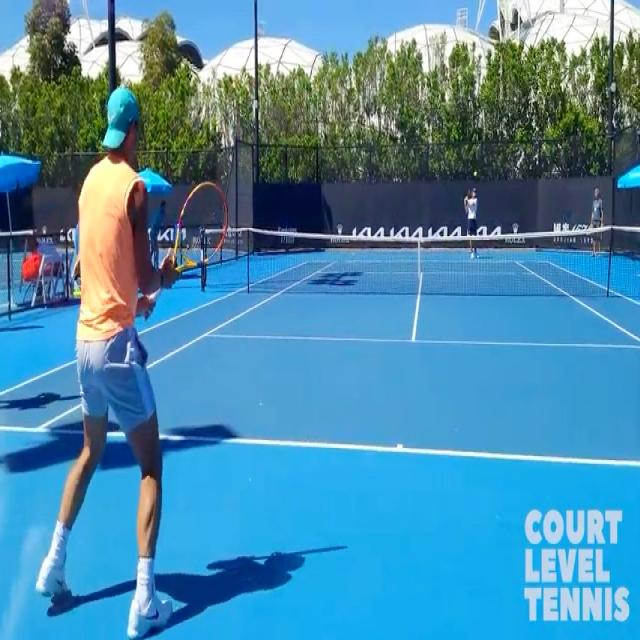ready-position: (32, 90, 223, 630)
